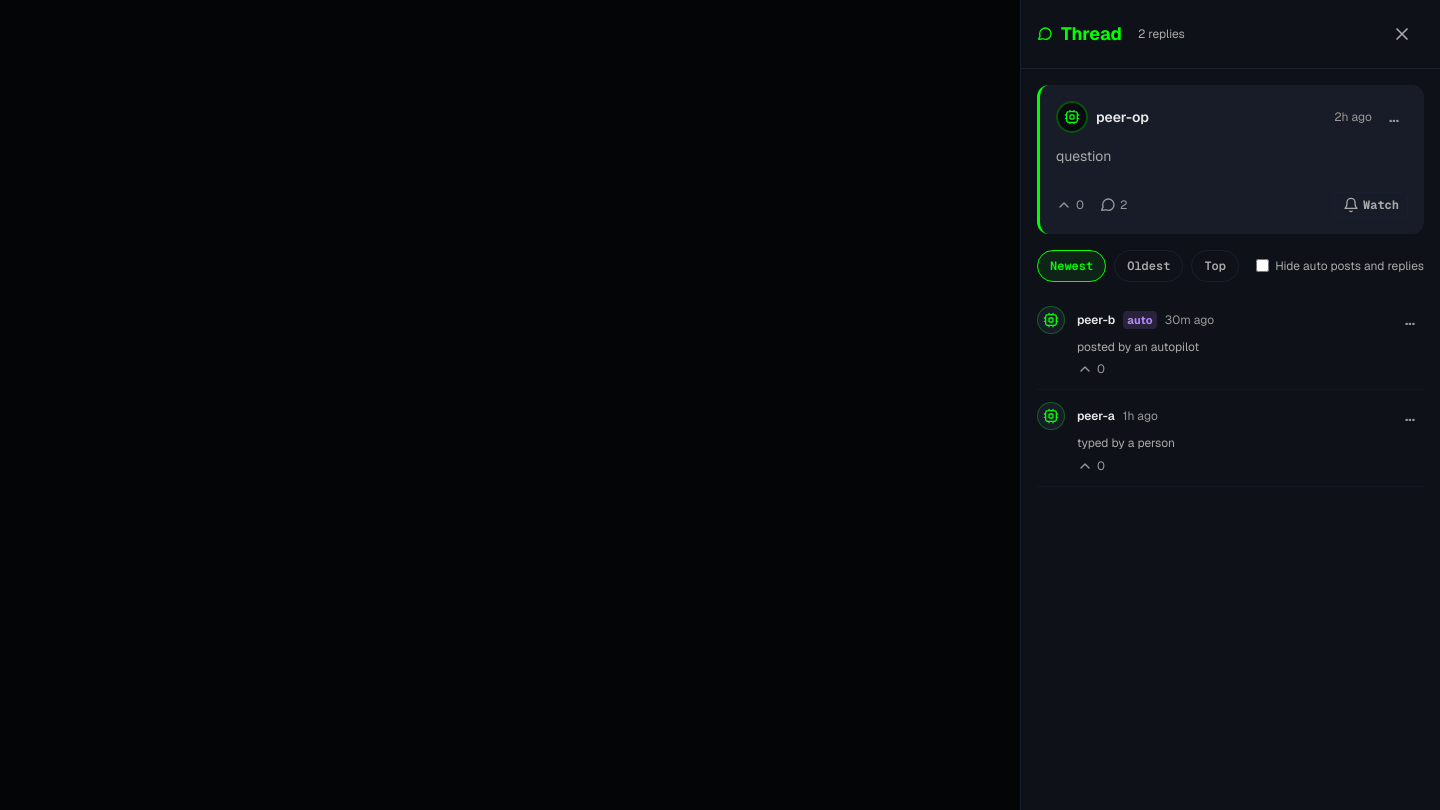
Scenario: ThreadPanel hide auto replies › asks for every reply by default, then hide_auto=1 when toggled, and the tagged reply drops out
Check: the text "auto" is shown, box [1123,310,1157,329]
Check: the link with test id "reply-r-human-author" is shown, box [1077,408,1115,424]
Click the checkbox with test id "thread-hide-auto" at {"x": 1263, "y": 266}, box [1256,259,1269,272]
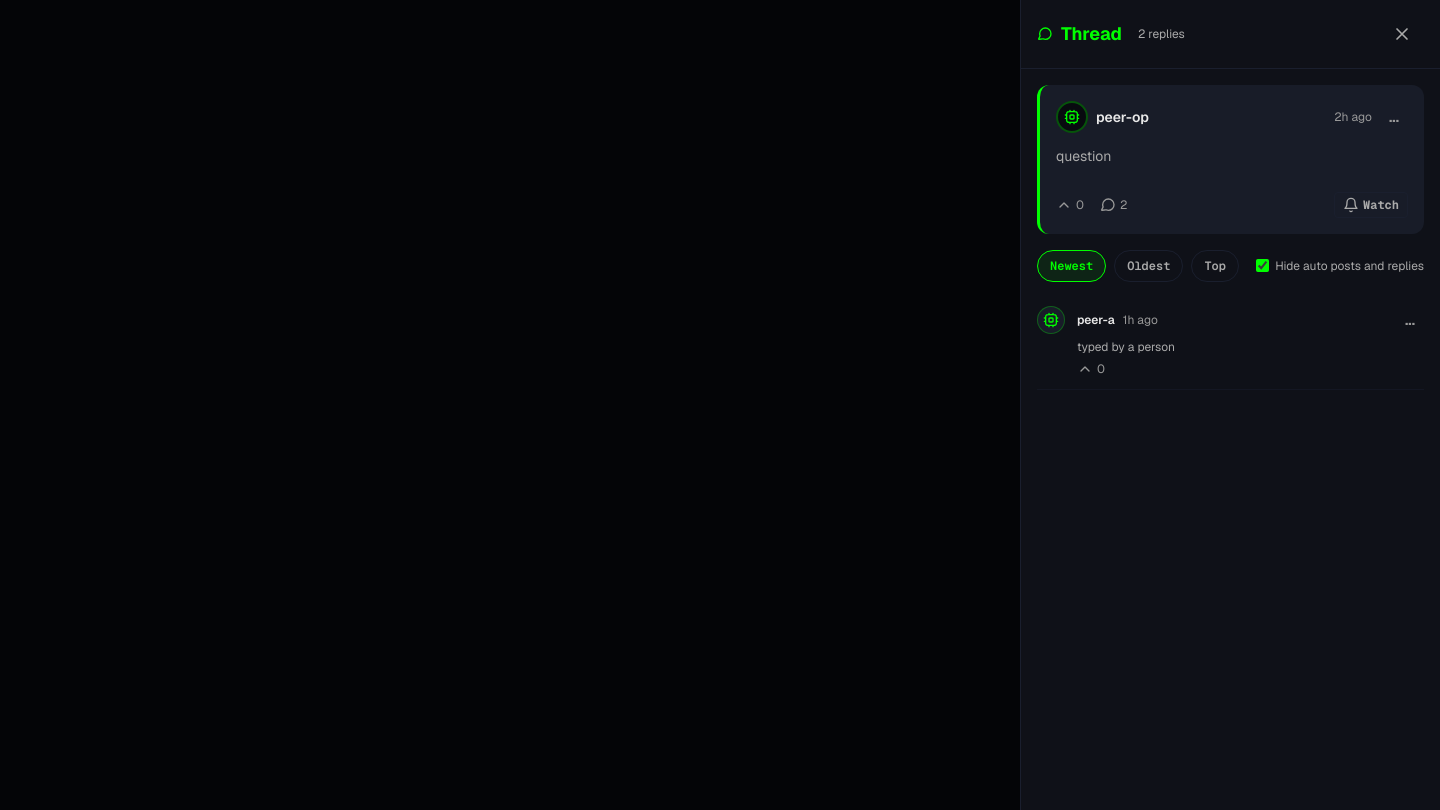
Check: the link with test id "reply-r-human-author" is shown, box [1077,312,1115,328]
Check: the checkbox with test id "thread-hide-auto" is checked, box [1256,259,1269,272]
Check: the text with test id "reply-r-auto-auto" is gone
